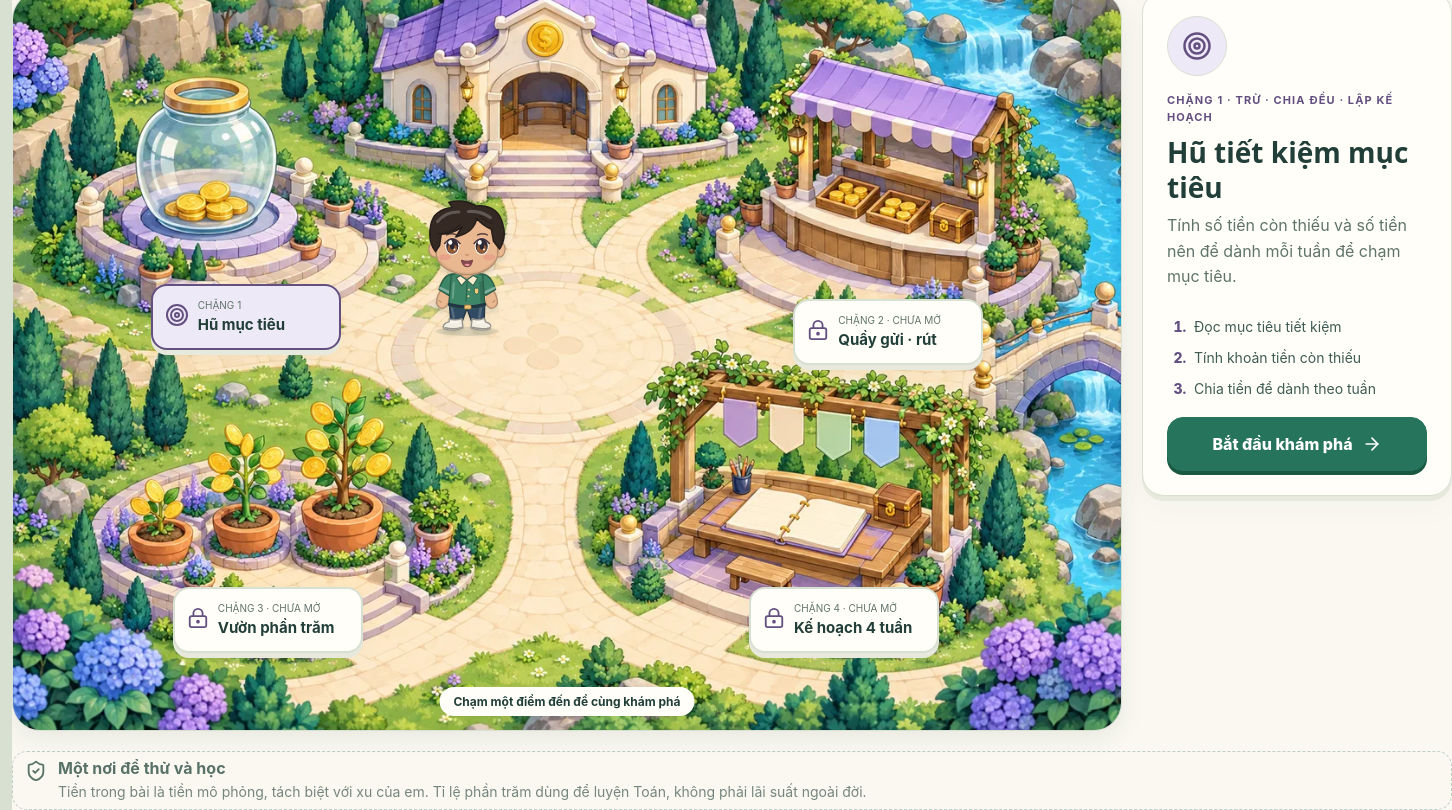
Test: Tiny Bank complete student flow › keeps the level + mission gate and explains locked destinations
(page scrolled)
What coordinates should you click on to do the following:
click the button "CHẶNG 4 · CHƯA MỞ Kế hoạch 4 tuần"
I would click on:
 (844, 620)
Its box is [749,586,939,652].
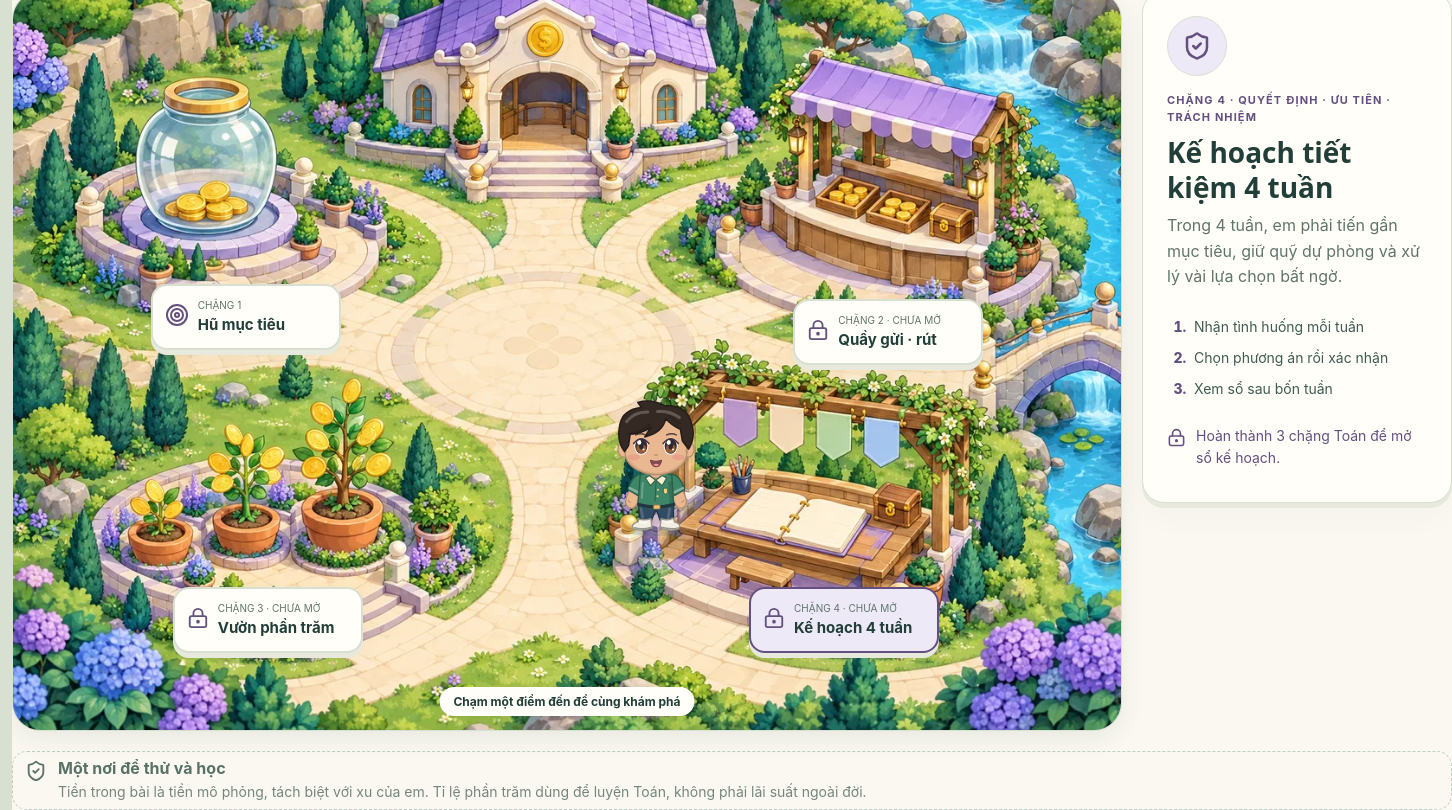
Expected: the text "Mở sổ kế hoạch" is not shown
Expected: the text "Hoàn thành 3 chặng Toán" is shown, [1196,427,1412,466]
